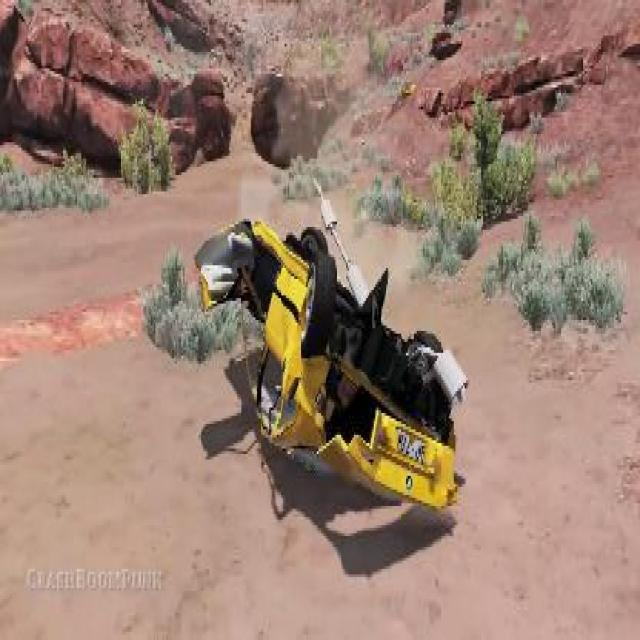accident: (192, 194, 472, 517)
